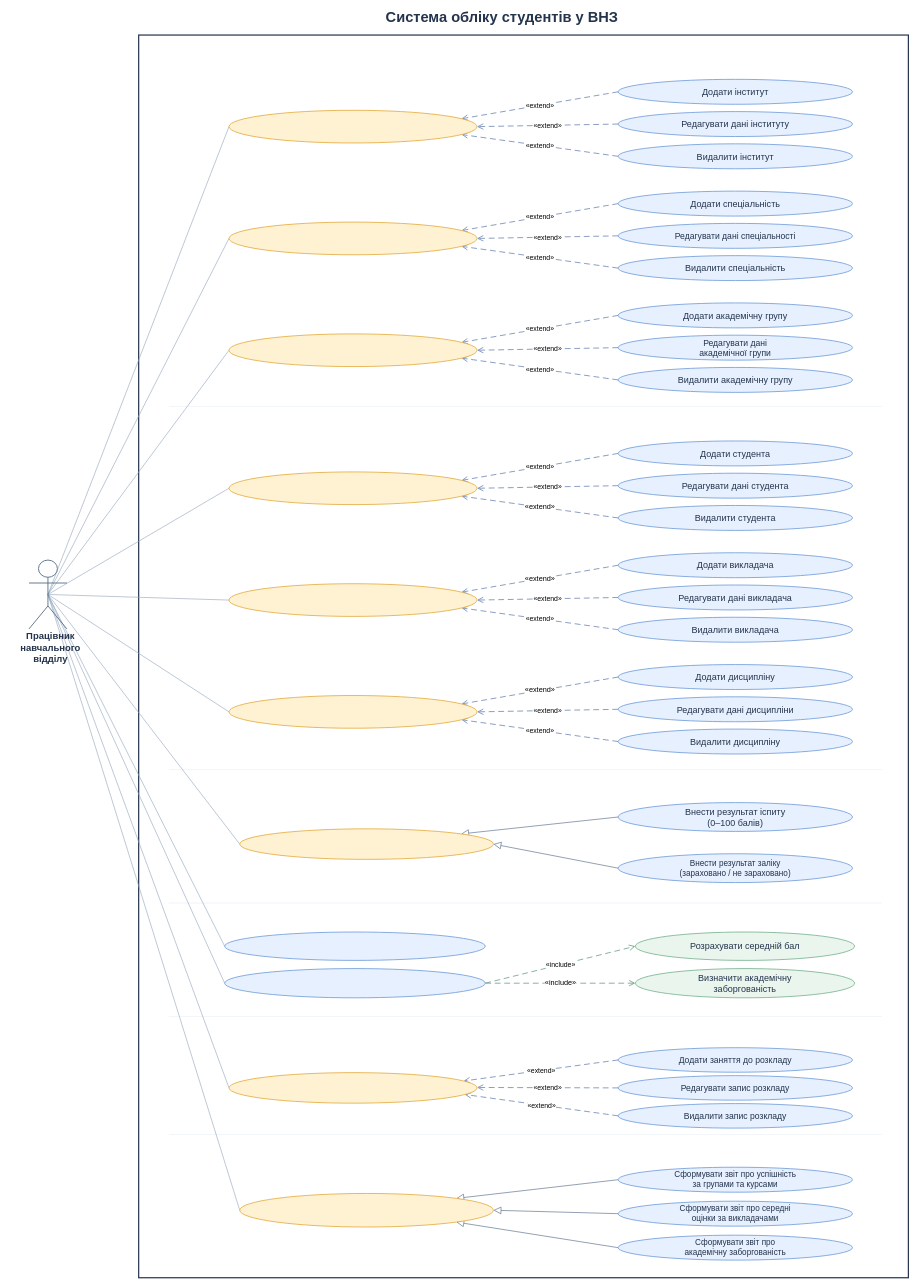
Image size: 916x1286. Some labels were removed from this diagram. Each missing label, with the centre of its shape:
"Внести результат оцінювання" goes at [366,844].
"Переглянути оцінки студента" goes at [354,946].
"Переглянути розклад" goes at [352,1087].
"Переглянути список академічних груп" goes at [352,350].
"Переглянути список викладачів" goes at [352,600].
"Переглянути список дисциплін" goes at [352,711].
"Переглянути список спеціальностей" goes at [352,238].
"Переглянути список студентів" goes at [352,488].
"Переглянути список інститутів" goes at [352,126].
"Переглянути успішність студента" goes at [354,983].
"Сформувати звіт" goes at [366,1210].
